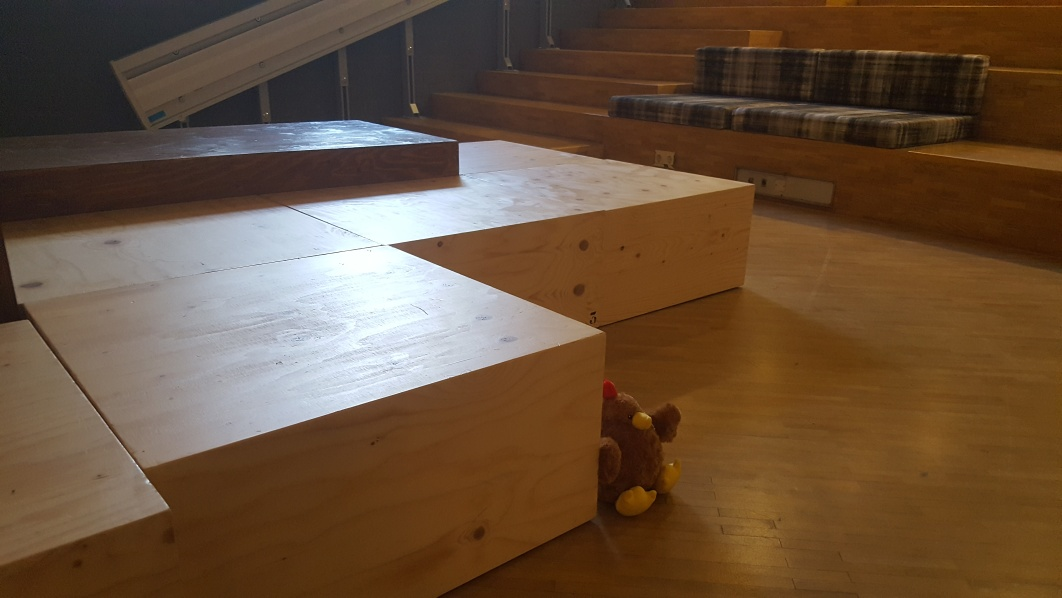chicken: (600, 379, 681, 519)
